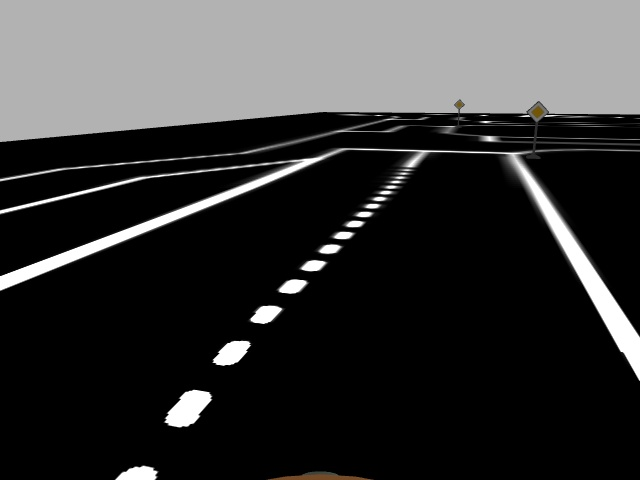priority: (525, 100, 549, 123), (453, 97, 465, 110)
